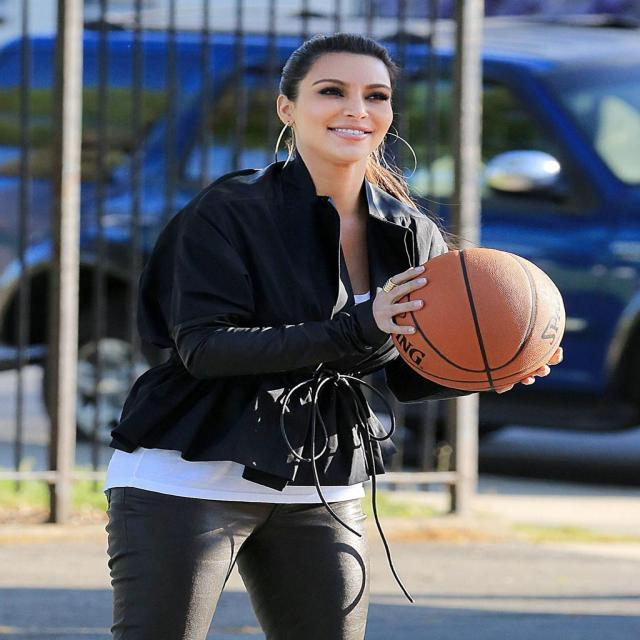Face: (300, 46, 403, 164)
